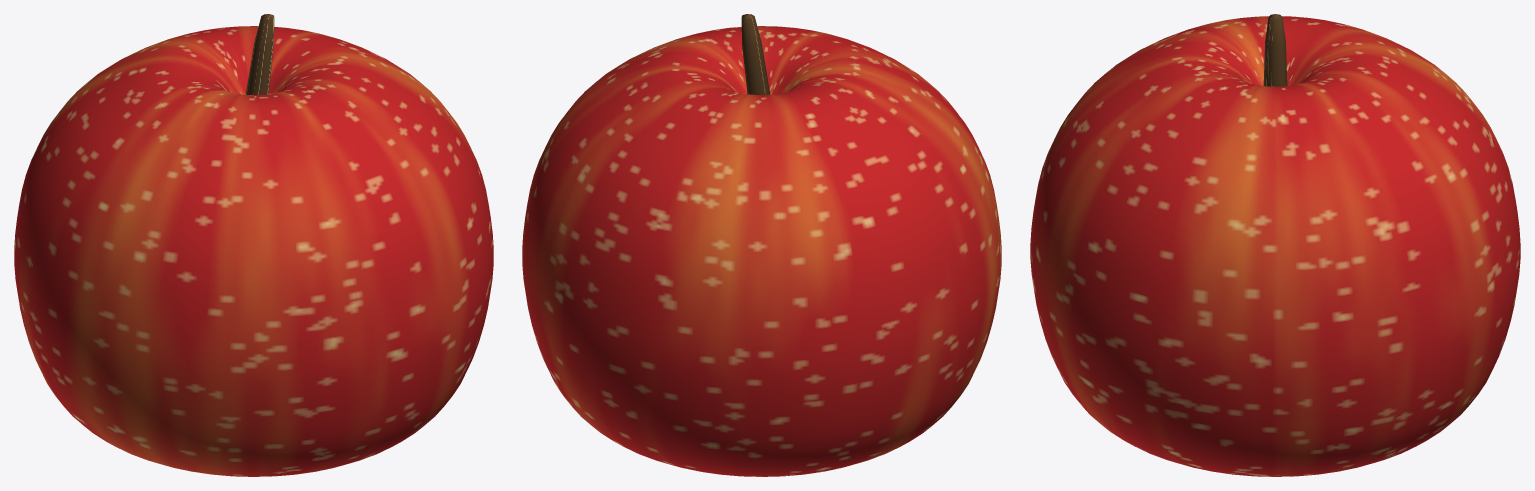
The picture shows the model from 3 angles, left to right: view 1: azimuth 30°, elevation 25°; view 2: azimuth 150°, elevation 25°; view 3: azimuth 270°, elevation 25°; orthographic projection. The views are drawn at different scales.
Visible parts, largest first — view 1: Apple, red; view 2: Apple, red; view 3: Apple, red.
Boxes of the visible parts, left/top/right/bottom form: Apple, red: left=14, top=14, right=493, bottom=476; Apple, red: left=522, top=14, right=1001, bottom=476; Apple, red: left=1030, top=14, right=1520, bottom=476.
Bounding box in the file's own units: 0.0853 × 0.0795 × 0.0853.
Materials: 1 (1 with a texture image).
